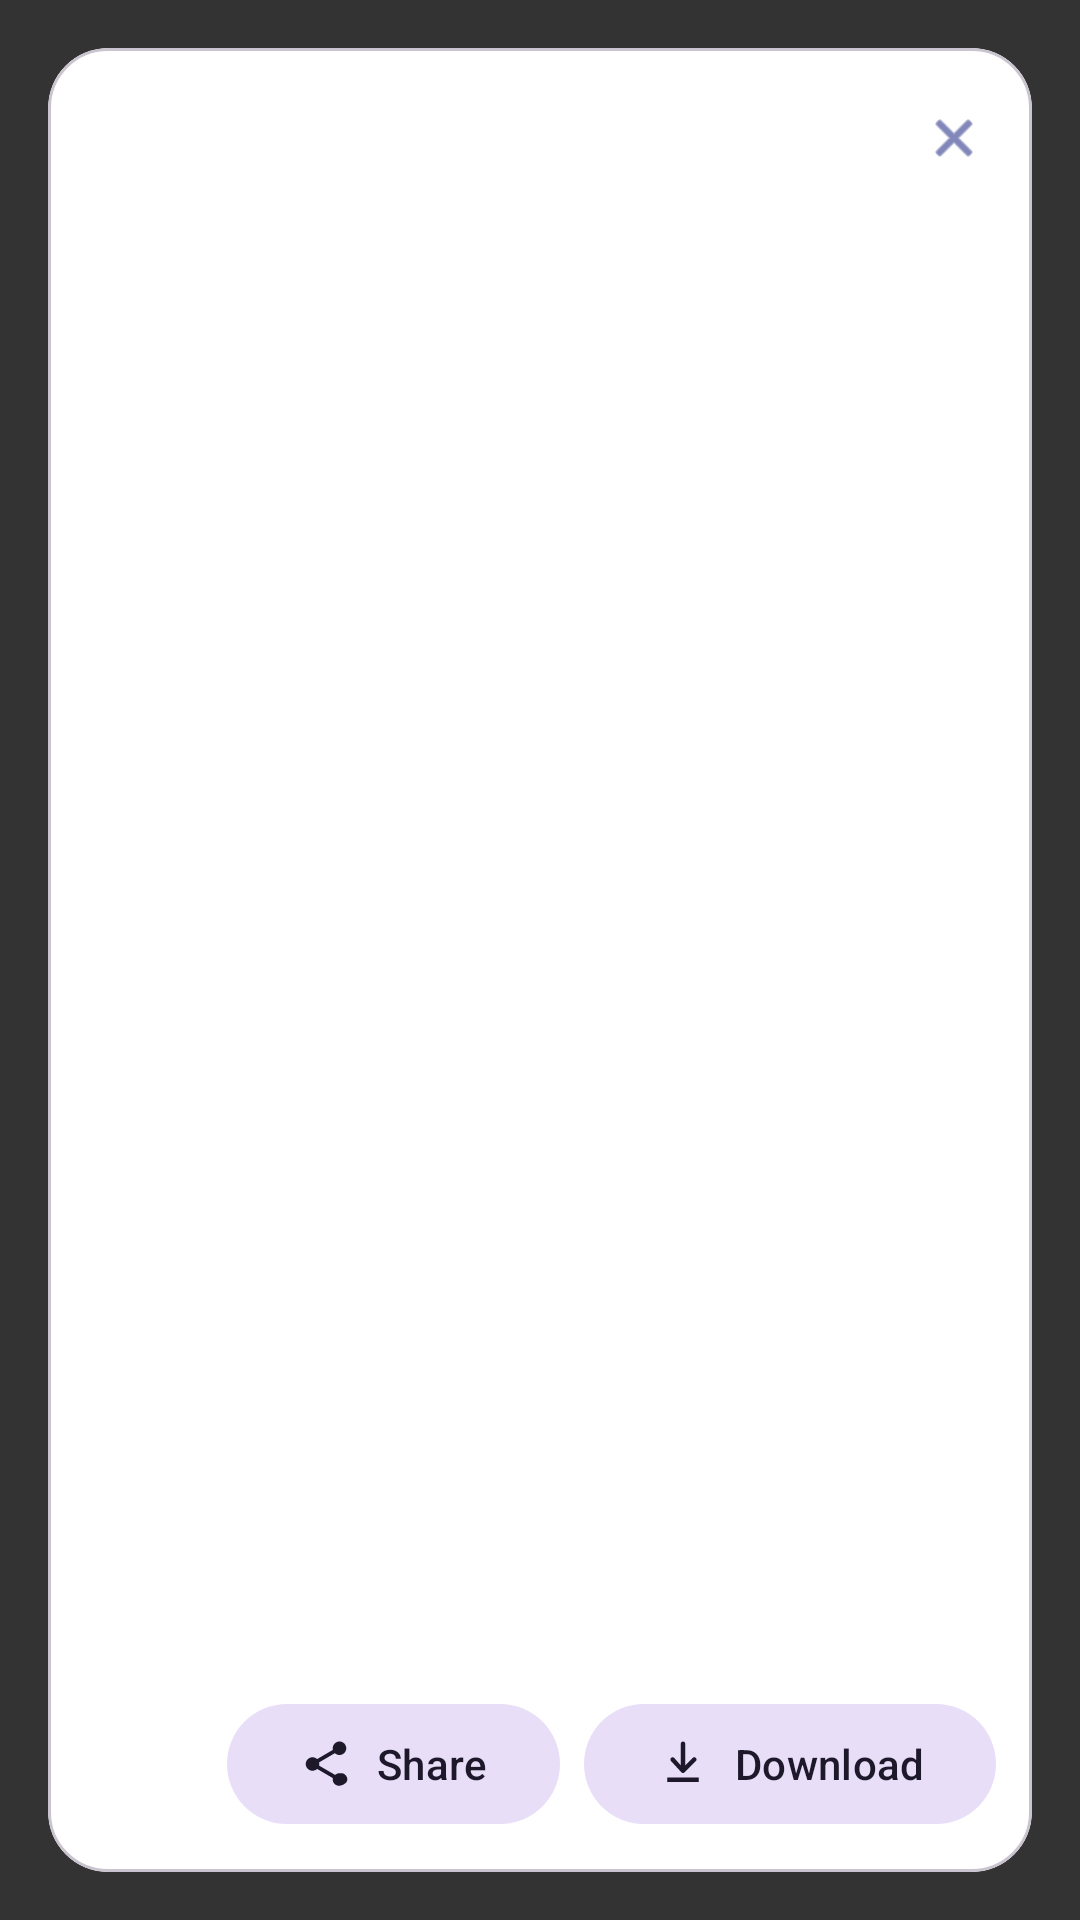

Icon bounding boxes for this 1080×1920 phone screenshot, format (x1, y1, x2, y2):
Close: (935, 119, 973, 157)
